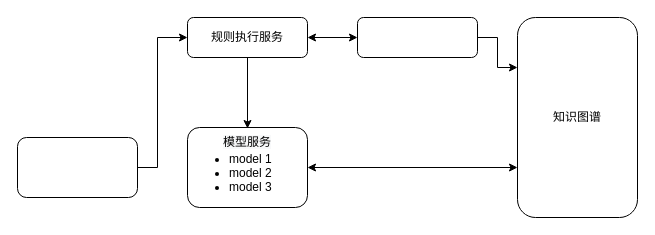
Image size: 655x235. Some labels were removed from this diagram. Each missing label, with the box of its shape:
规则匹配服务: (356, 16, 478, 58)
风控服务: (16, 136, 138, 198)
